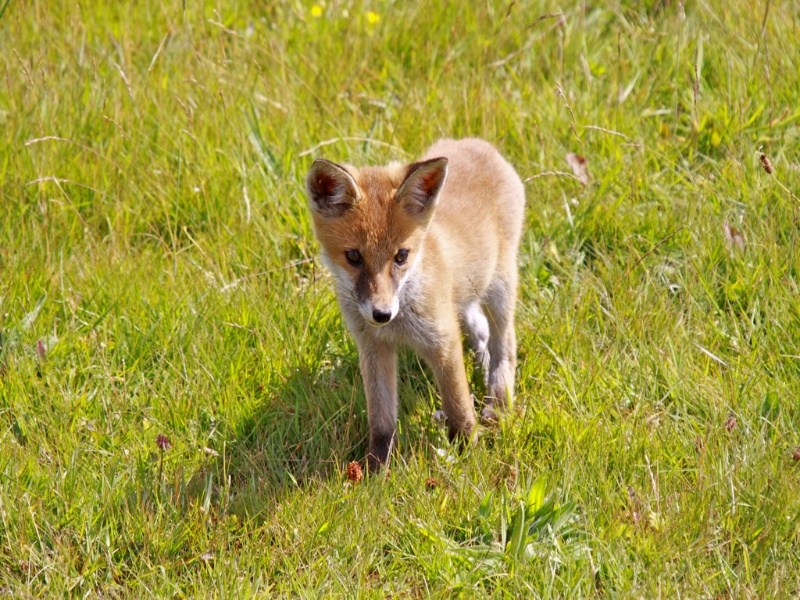fox: (304, 137, 536, 475)
